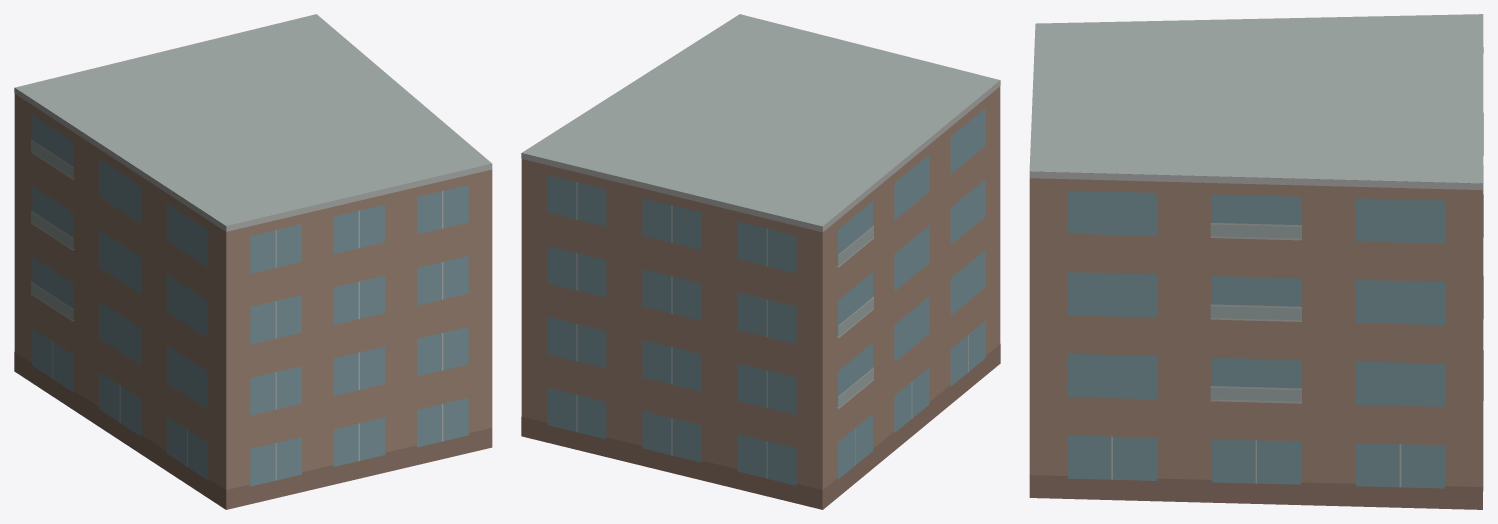
File: survey-upis-32641036.glb
3 views of the same model, side by side, from view 1: azimuth 30°, elevation 25°; view 2: azimuth 150°, elevation 25°; view 3: azimuth 270°, elevation 25° (orthographic). The views are drawn at different scales.
Parts seen in each view (by area): view 1: survey-upis-32641036.tmp; view 2: survey-upis-32641036.tmp; view 3: survey-upis-32641036.tmp.
Boxes of the visible parts, x1,y1,x2,y2 form: survey-upis-32641036.tmp: (14, 14, 492, 509); survey-upis-32641036.tmp: (521, 14, 1000, 509); survey-upis-32641036.tmp: (1029, 14, 1483, 509).
Size of the model in its own units: 13.15 by 11.8 by 14.88.
